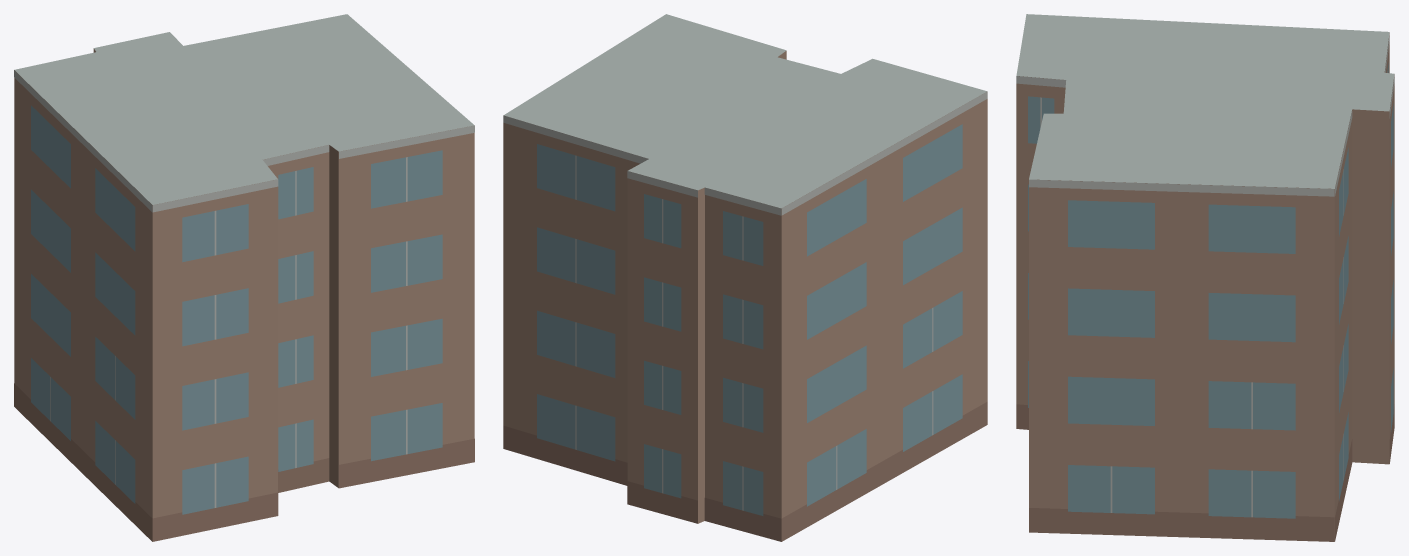
File: survey-upis-32589672.glb
3 views of the same model, side by side, from view 1: azimuth 30°, elevation 25°; view 2: azimuth 150°, elevation 25°; view 3: azimuth 270°, elevation 25° (orthographic). The views are drawn at different scales.
Visible parts, largest first — view 1: survey-upis-32589672.tmp; view 2: survey-upis-32589672.tmp; view 3: survey-upis-32589672.tmp.
Boxes of the visible parts, x1,y1,x2,y2 form: survey-upis-32589672.tmp: (14,14,474,541); survey-upis-32589672.tmp: (503,14,987,541); survey-upis-32589672.tmp: (1016,14,1394,541).
Bounding box in the file's own units: 11.79 × 11.09 × 10.78.
